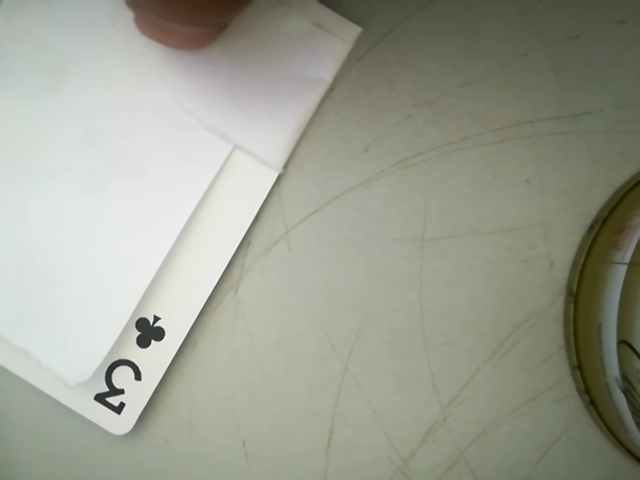mh 3: (83, 299, 174, 433)
